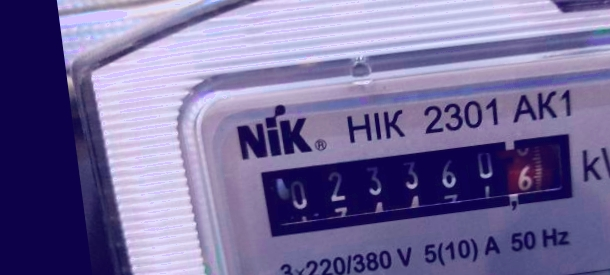0: (285, 175, 310, 211), (474, 147, 495, 180)
2: (322, 167, 349, 204)
3: (360, 162, 385, 197), (398, 157, 421, 190)
6: (434, 155, 458, 189), (511, 160, 535, 191)
screen: (240, 112, 591, 254)
